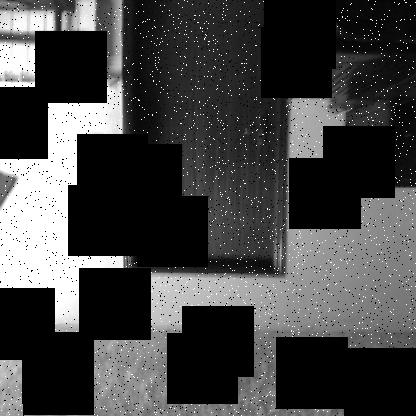Porte: (122, 1, 290, 279)
